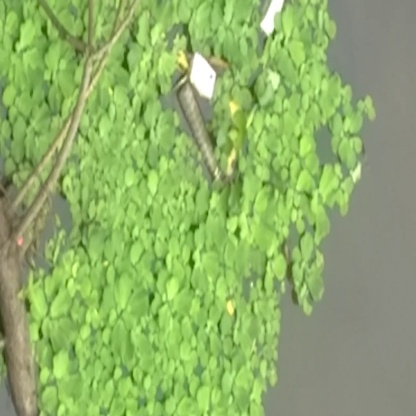branch: (7, 7, 117, 250)
